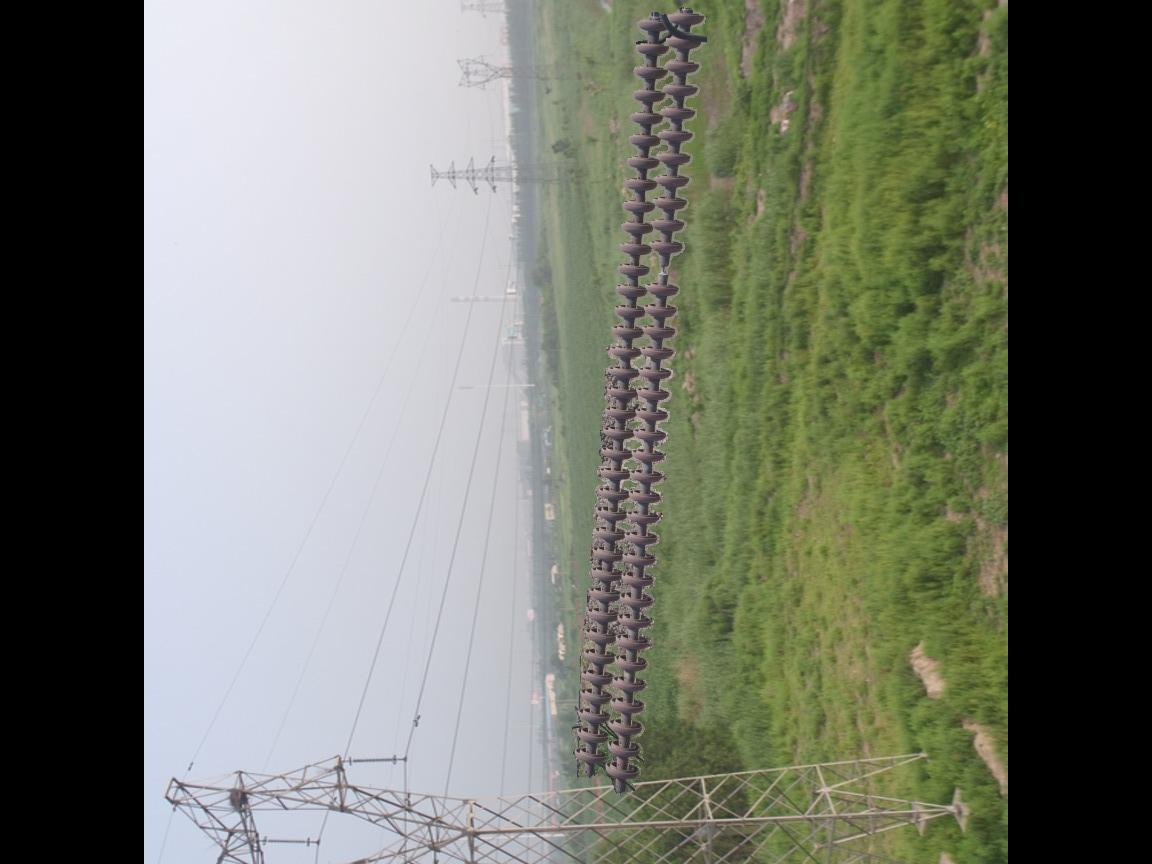insulator: (569, 3, 709, 791)
insulator_stringdrop: (643, 236, 685, 301)
